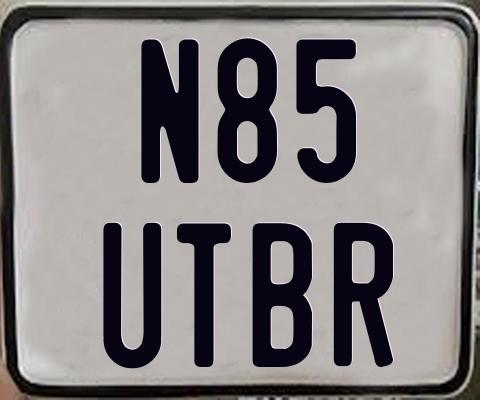5: (295, 39, 356, 185)
8: (215, 36, 279, 183)
B: (250, 222, 316, 366)
N: (138, 39, 197, 184)
R: (334, 221, 399, 370)
T: (176, 223, 230, 367)
U: (103, 220, 167, 370)
